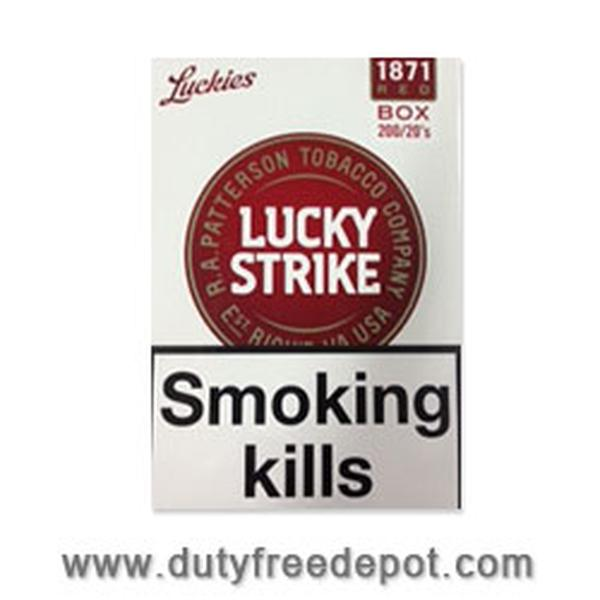lucky_strike_red: (152, 59, 462, 512)
